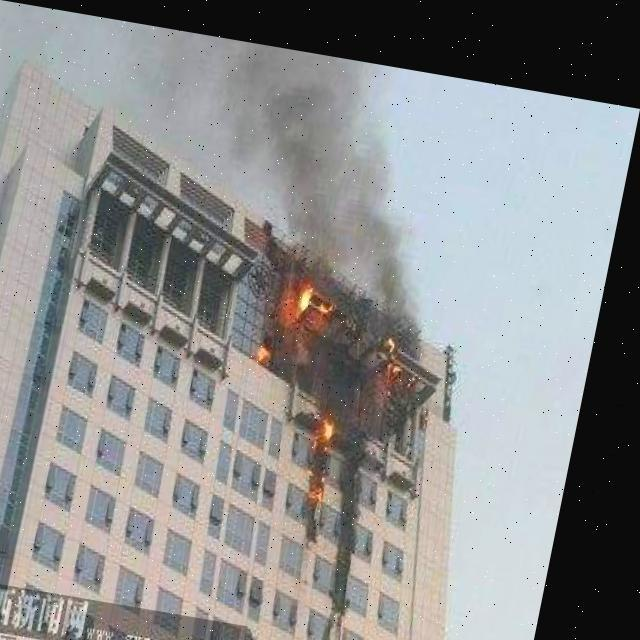Fire: (389, 311, 425, 364), (304, 267, 340, 309), (324, 394, 352, 440), (266, 325, 286, 357)
